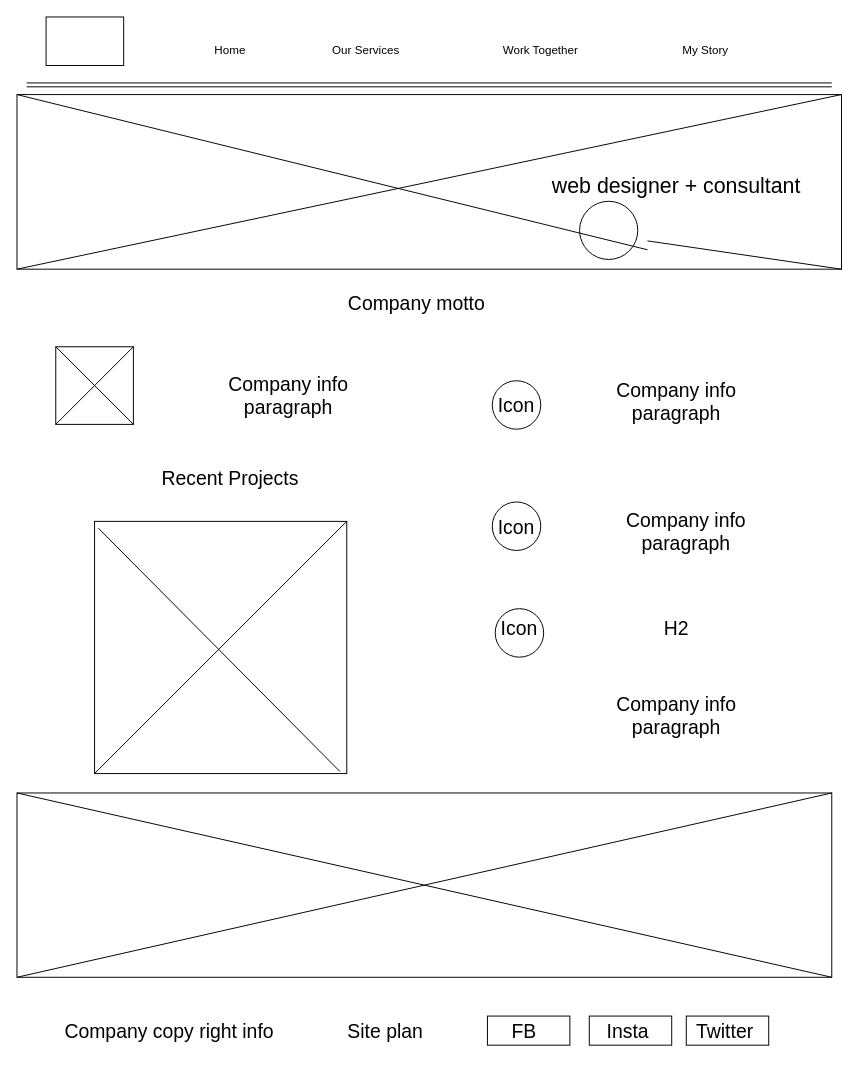
This 859x1077 diagram has some shape labels left out. The box of each missing label's shape, as (x1, y1, x2, y2) in pixels:
Inquire: (579, 200, 638, 259)
Logo: (45, 16, 124, 65)
